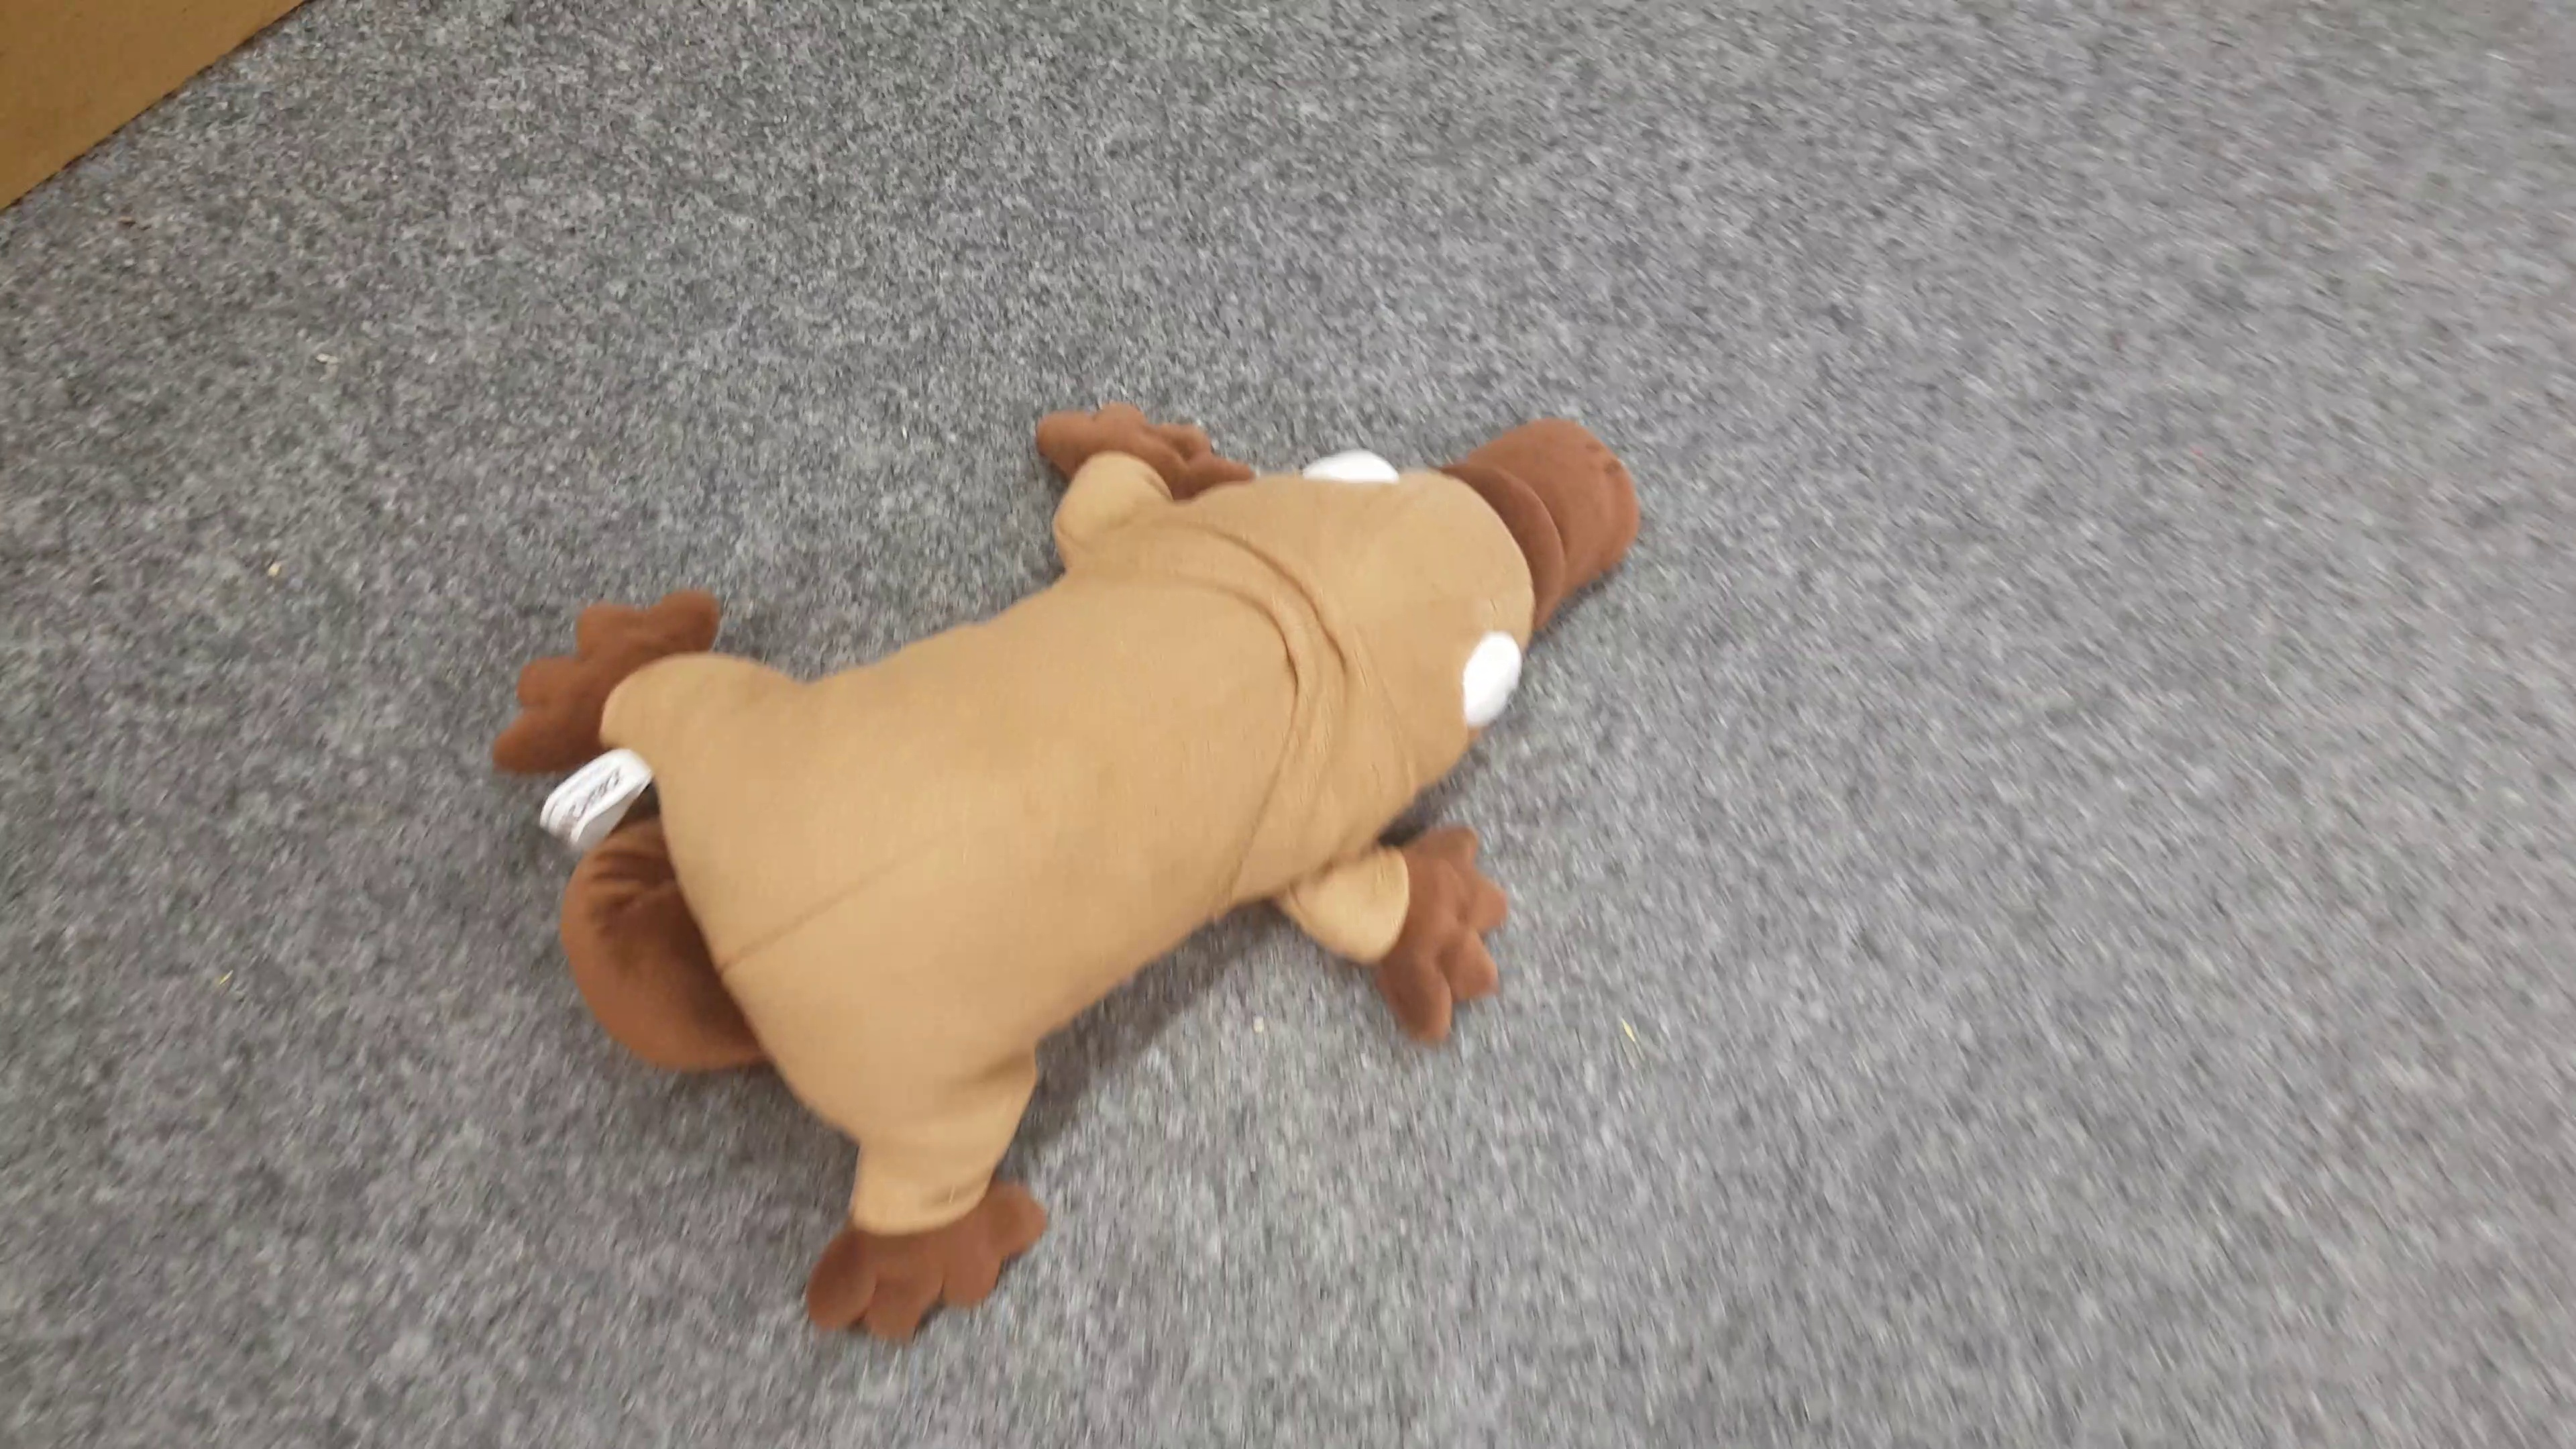grasp: (511, 398, 1638, 1341)
